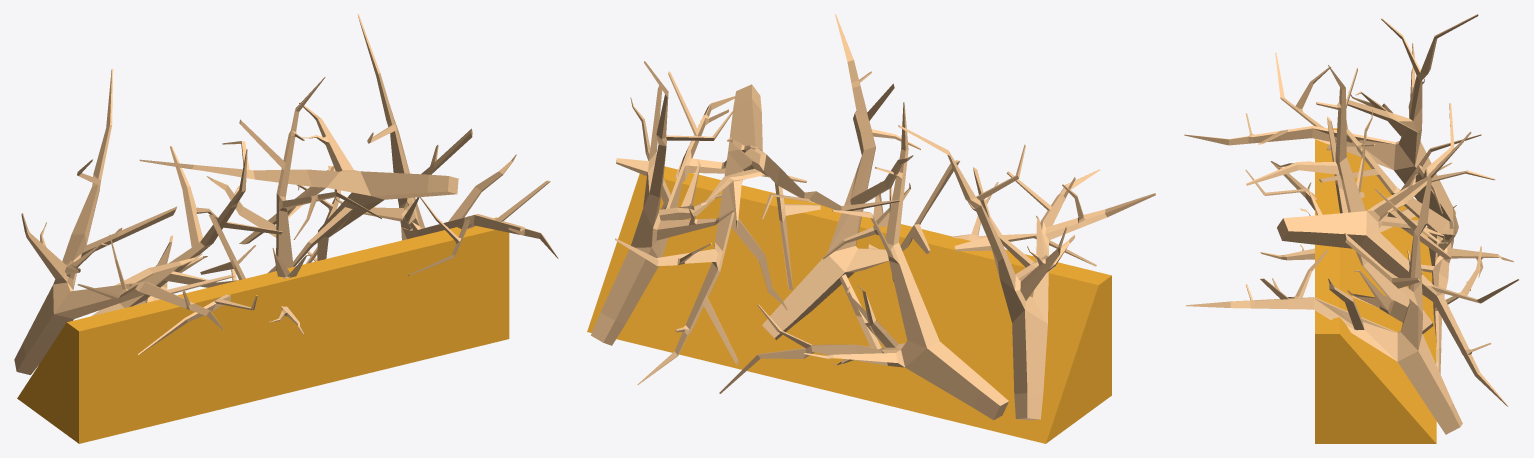
The model's file is Musor2.fbx.
The picture shows the model from 3 angles, left to right: view 1: azimuth 30°, elevation 25°; view 2: azimuth 150°, elevation 25°; view 3: azimuth 270°, elevation 25°; orthographic projection. The views are drawn at different scales.
Parts seen in each view (by area): view 1: Куб, Cube.001, Cube.003, Cube.000, Cube.004, Cube.002; view 2: Куб, Cube.002, Cube.001, Cube.000, Cube.003, Cube.004; view 3: Куб, Cube.000, Cube.003, Cube.001, Cube.004, Cube.002.
Boxes of the visible parts, x1,y1,x2,y2 form: Куб: (17,217,509,443); Cube.001: (14,69,234,374); Cube.003: (139,102,458,266); Cube.000: (336,14,558,275); Cube.004: (138,77,381,355); Cube.002: (91,146,282,316); Куб: (587,166,1111,443); Cube.002: (719,102,1008,420); Cube.001: (898,125,1155,420); Cube.000: (590,61,806,345); Cube.003: (615,84,899,384); Cube.004: (762,14,1096,339); Куб: (1315,128,1436,443); Cube.000: (1186,131,1471,434); Cube.003: (1277,103,1519,406); Cube.001: (1184,14,1478,222); Cube.004: (1245,65,1433,333); Cube.002: (1319,120,1513,373).
Size of the model in its own units: 696 by 467 by 444.
